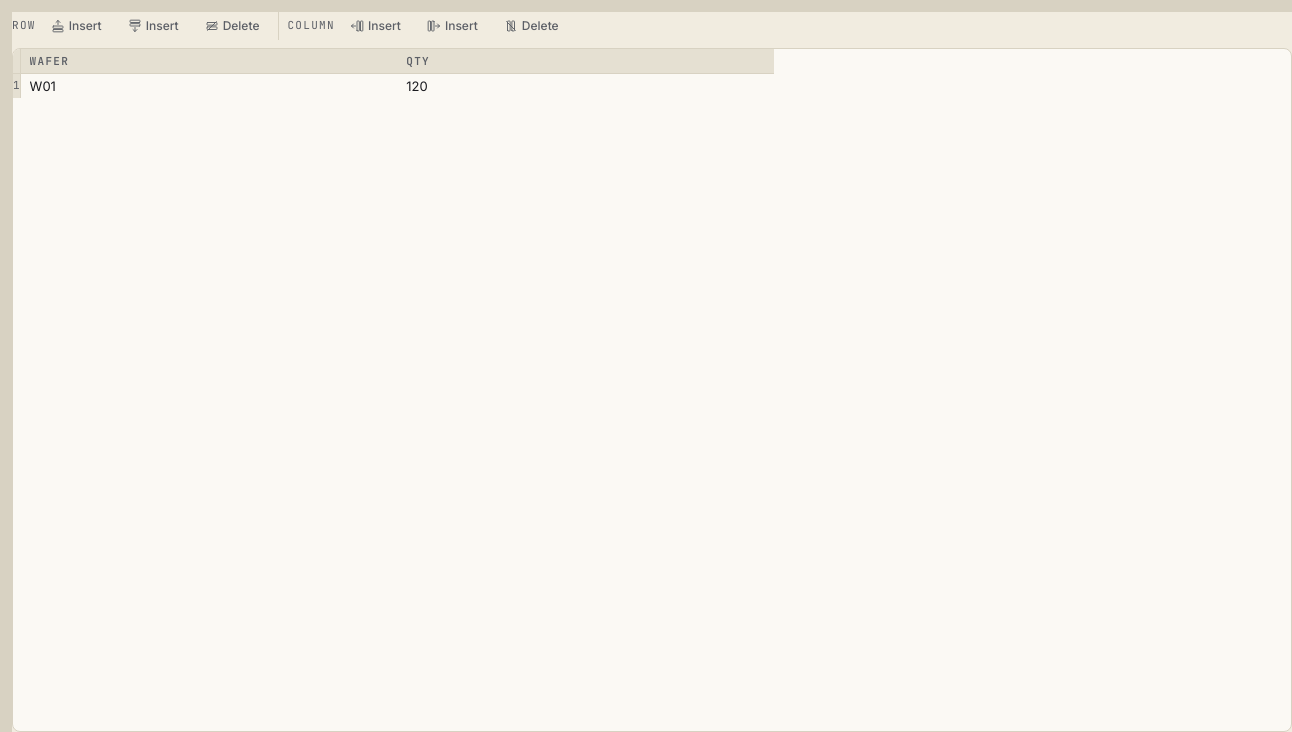
Test: SheetRenderer — the file changed outside the editor › says so and lets the user choose, instead of merging or discarding silently
The width and height of the screenshot is (1292, 732).
Note: An unsaved edit is in flight.
Double-click the field named "R1C2": (586, 86) left=397, top=74, right=774, bottom=98
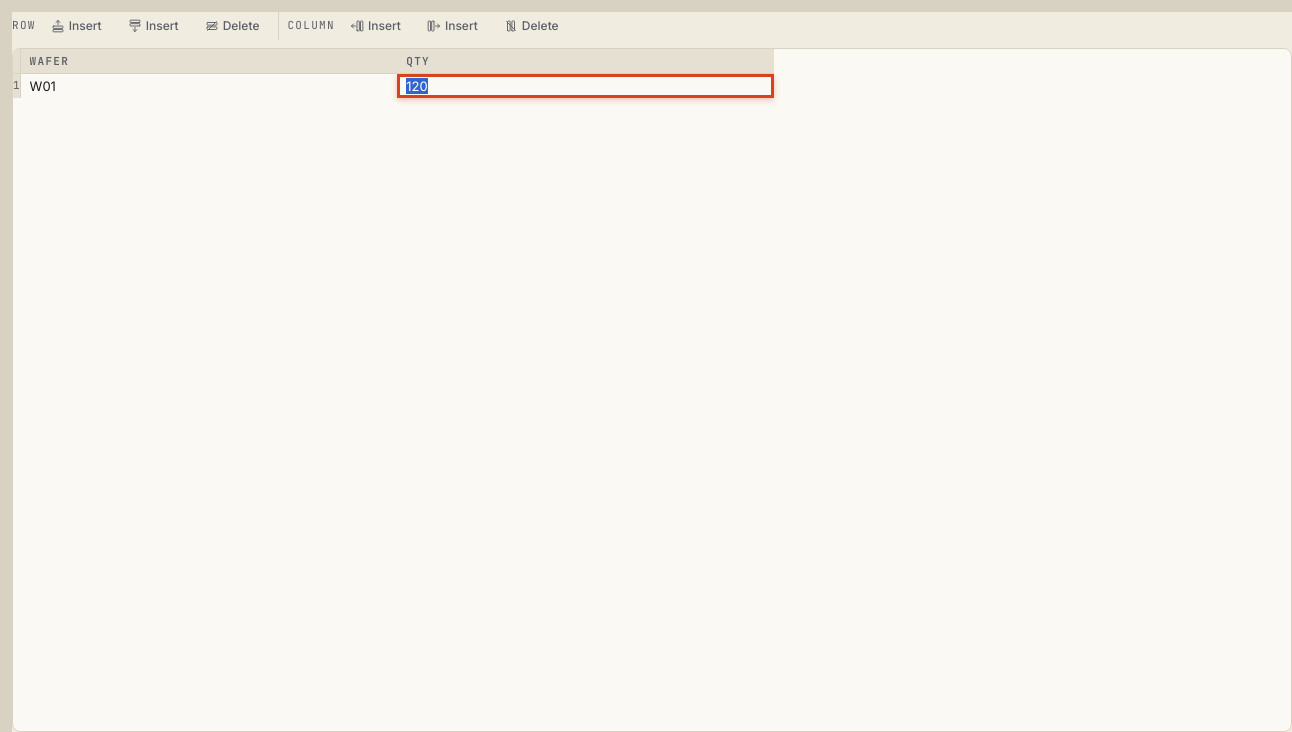
Replace the text in the field named "R1C2" with "130": (586, 86) left=397, top=74, right=774, bottom=98
Then press Enter
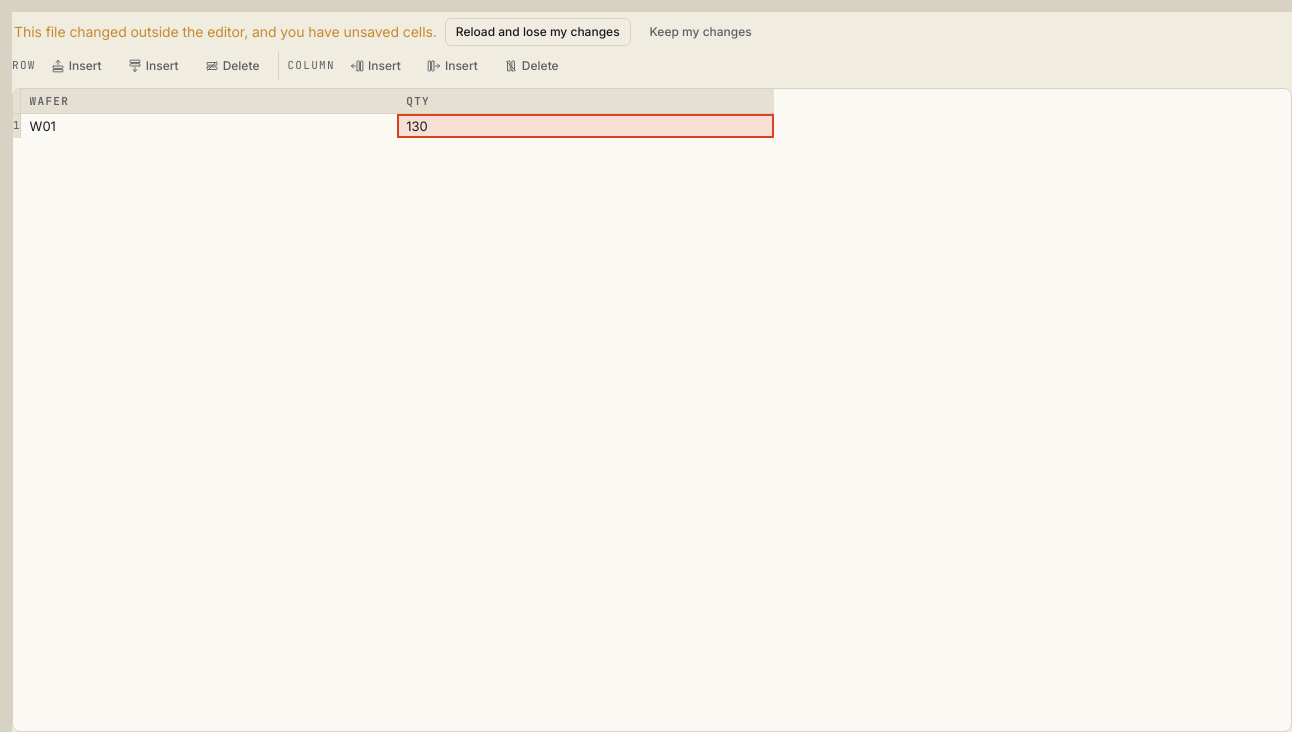
Result: the text "changed outside" is shown at left=14, top=23, right=437, bottom=40
Result: the button "Keep my changes" is shown at left=639, top=18, right=763, bottom=46
Result: the button "Reload and lose my changes" is shown at left=445, top=18, right=631, bottom=46
